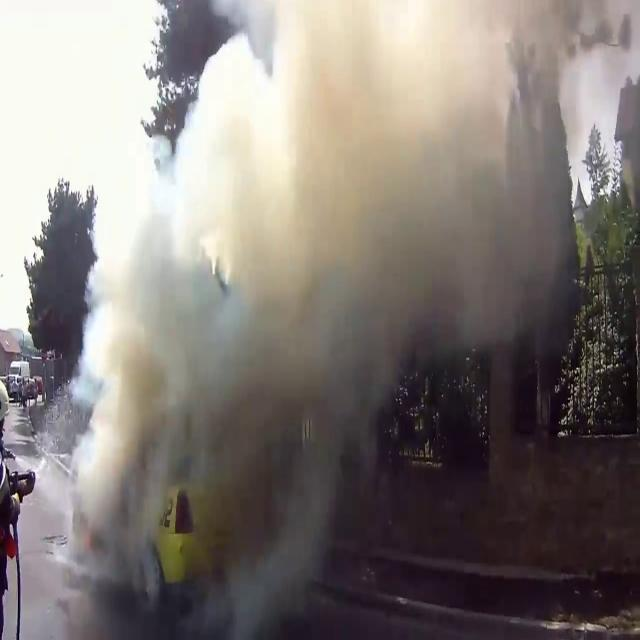Smoke: (52, 0, 611, 574)
